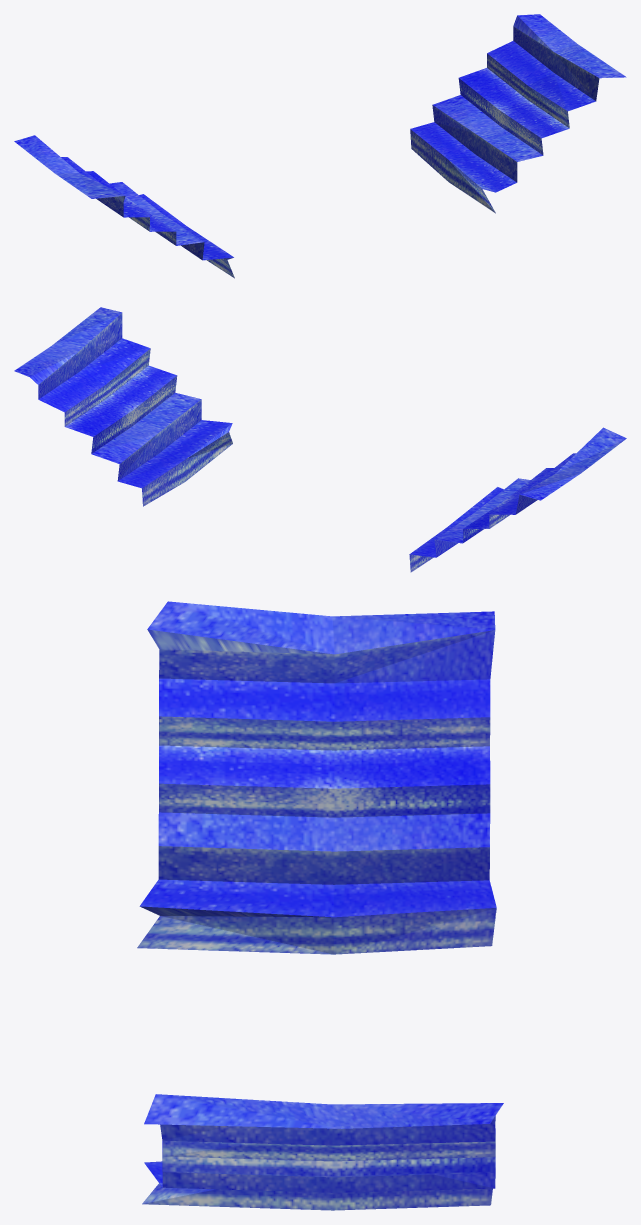
3 renders of one model, top to bottom at view 1: azimuth 30°, elevation 25°; view 2: azimuth 150°, elevation 25°; view 3: azimuth 270°, elevation 25°, orthographic. The views are drawn at different scales.
Bounding box in the file's own units: 0.5381 × 0.1076 × 0.1616.
Materials: 1 (1 with a texture image).
